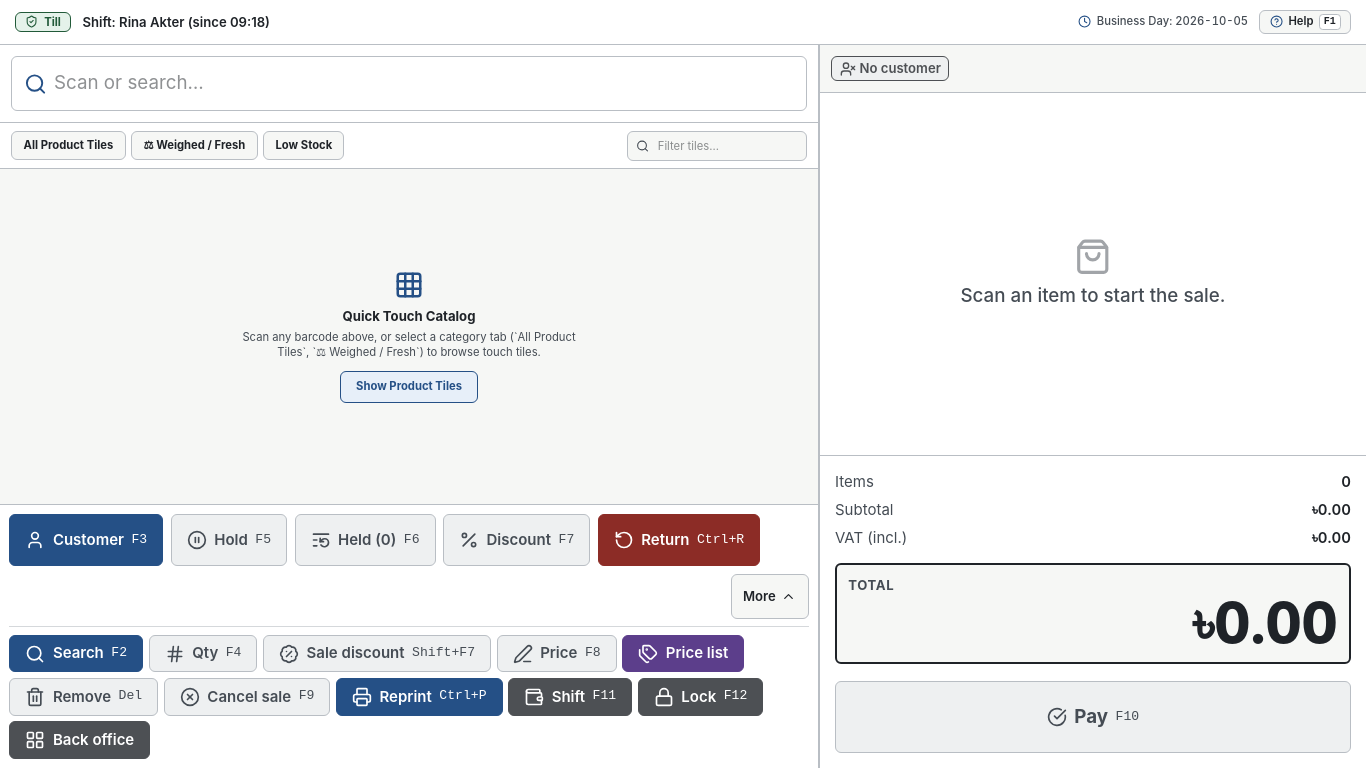
Test case: Returns, exchanges and voids (fake bridge) › ret_01: a cashier's return needs an admin, then goes through
Expected: the text "Scan an item to start the sale." is shown, [960,283,1226,310]
Type keys "{Control>}r{/Control}"
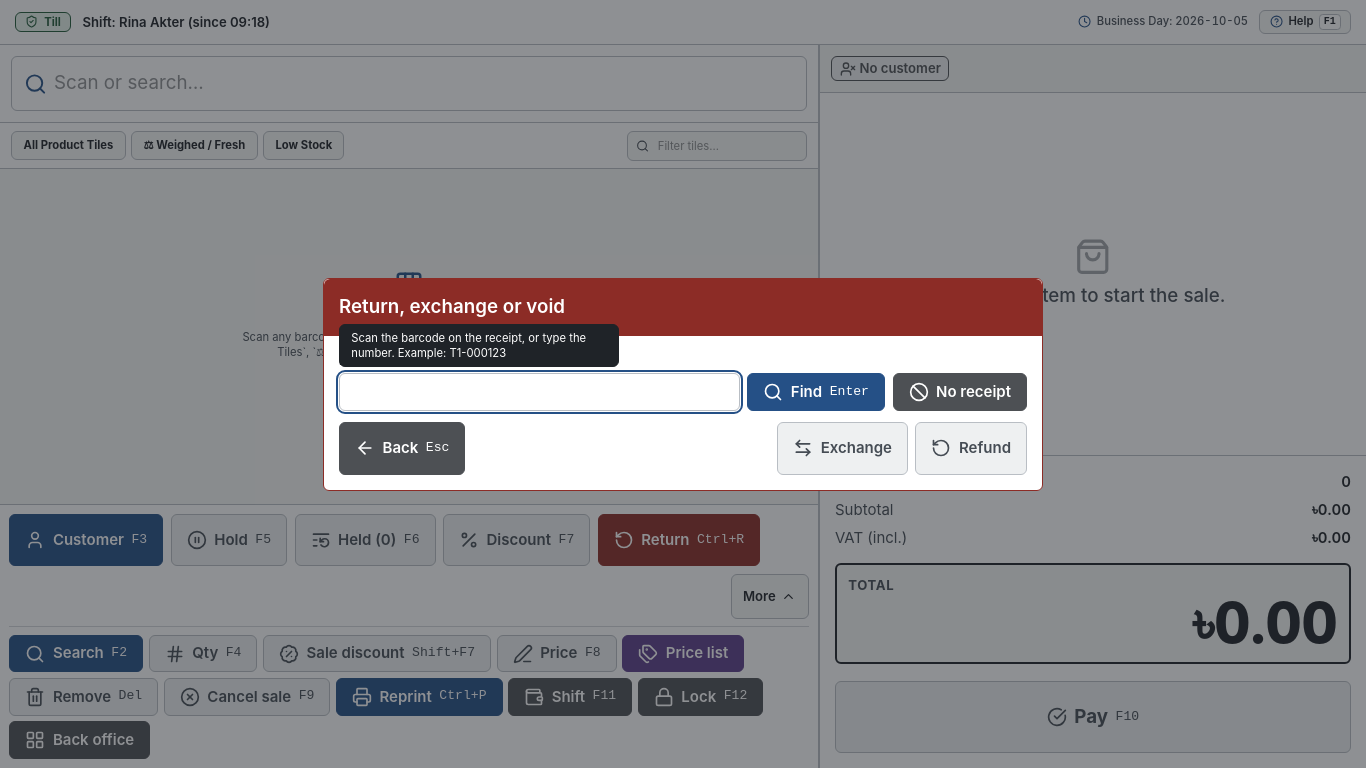
Type "T1-000001" into the field labelled "Invoice number" at (539, 392), box [339,373,740,411]
Then press Enter
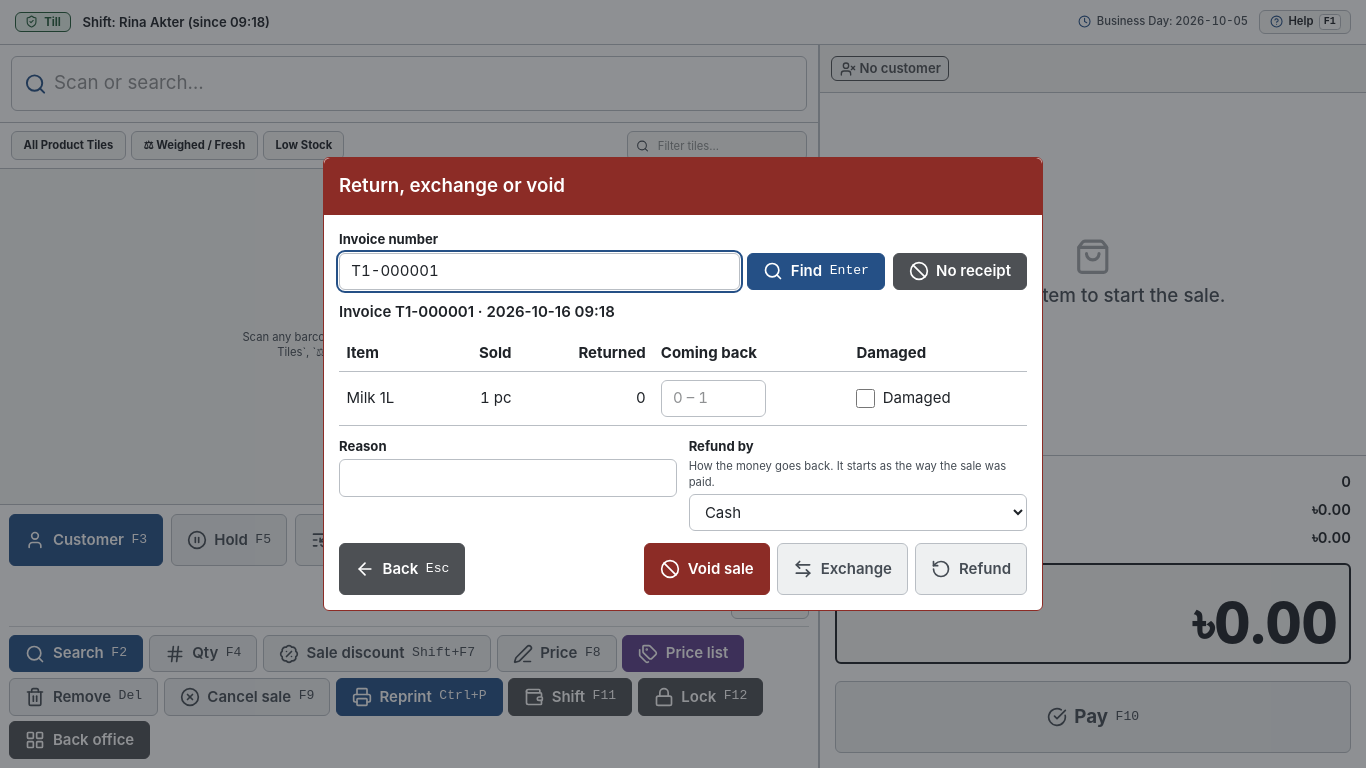
Expected: the text "Invoice T1-000001 · 2026-10-16 09:18" is shown, [339,302,615,321]
Type "1" into the field with placeholder "0 – 1" at (713, 398), box [661,380,766,417]
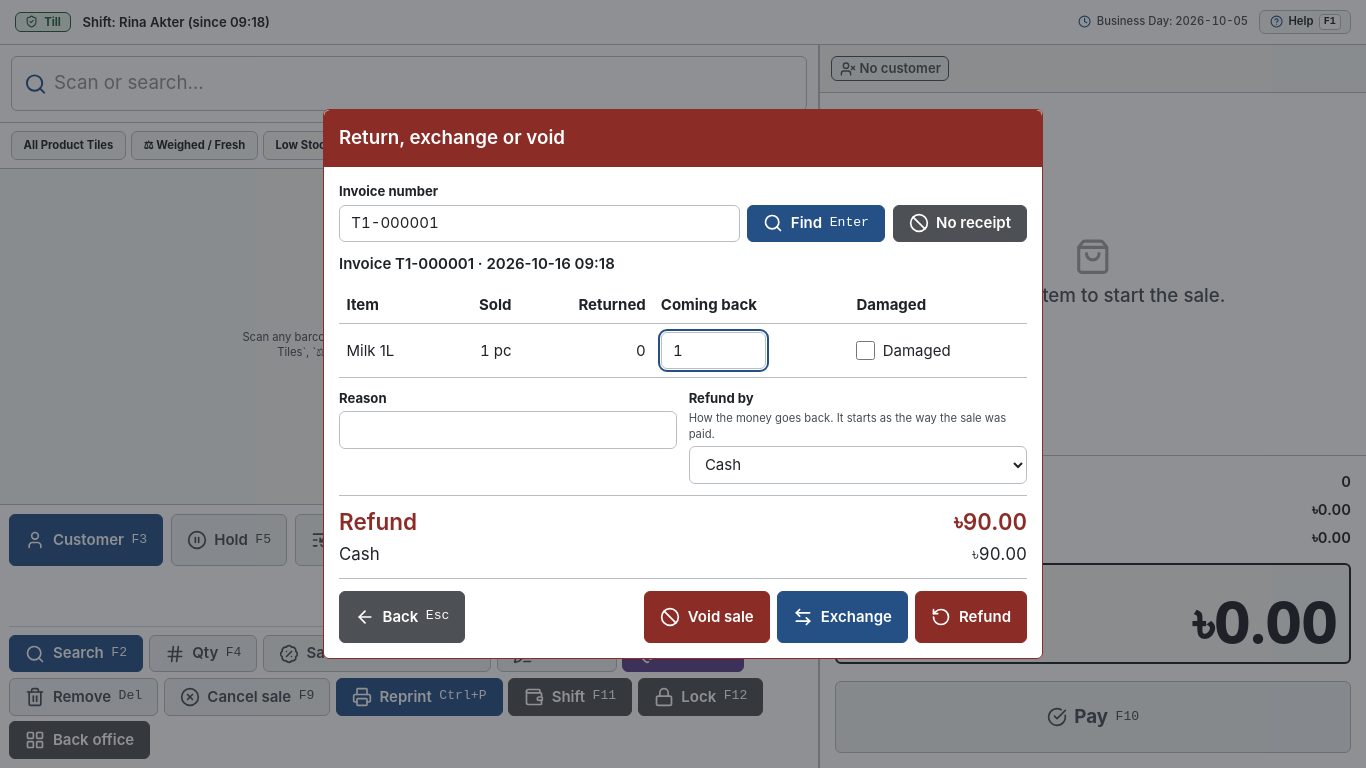
Type "Wrong size" into the field labelled "Reason" at (508, 430), box [339,411,677,449]
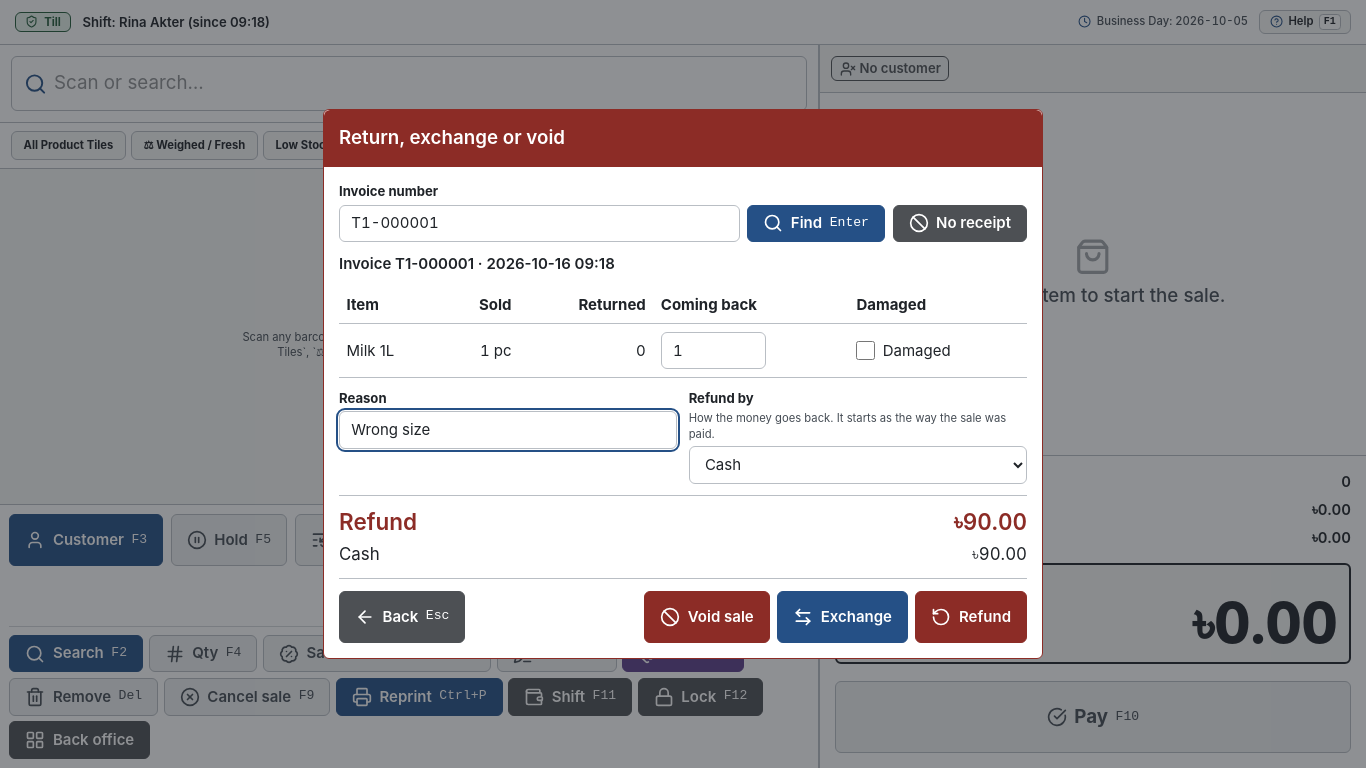
Click the button "Refund" at (971, 617), box [916,591,1027,643]
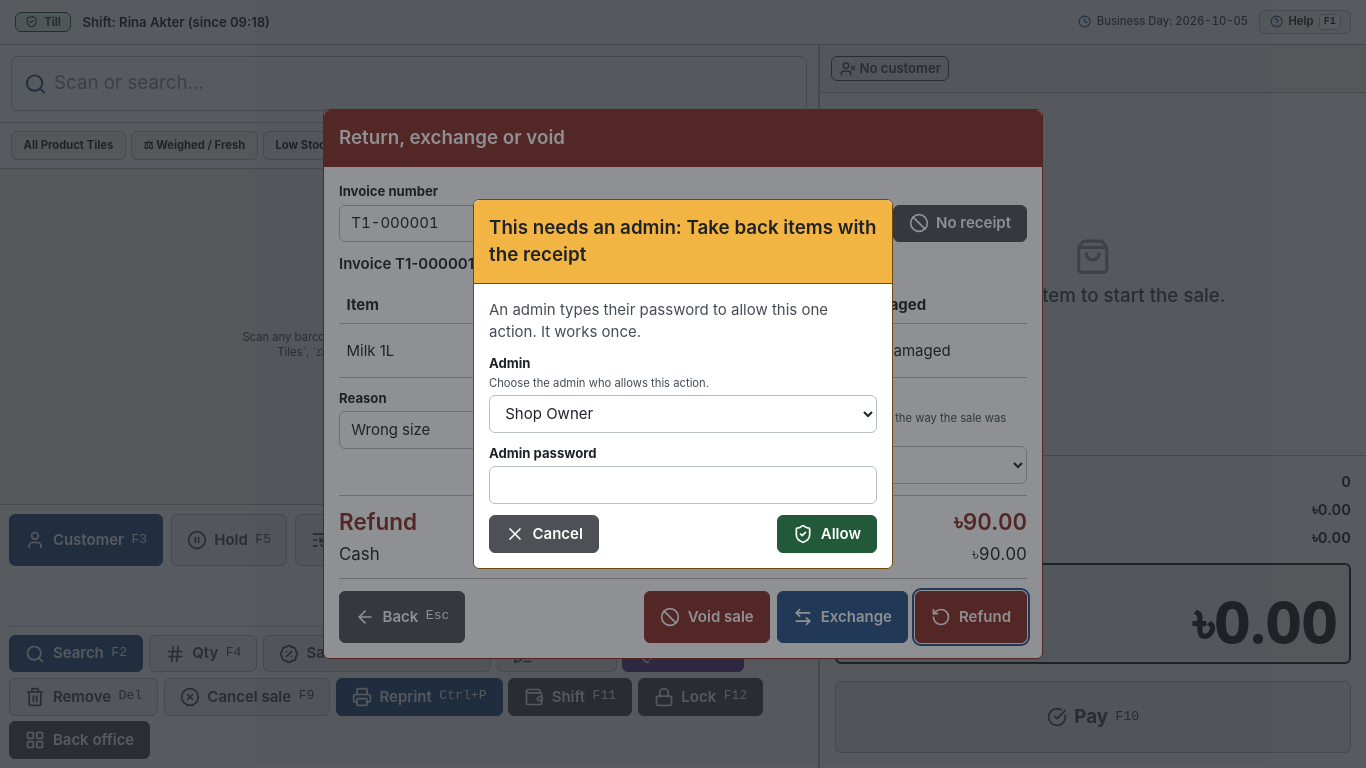
Type "shop-owner-1" into the password field labelled "Admin password" at (683, 485), box [489,466,877,504]
Then press Enter
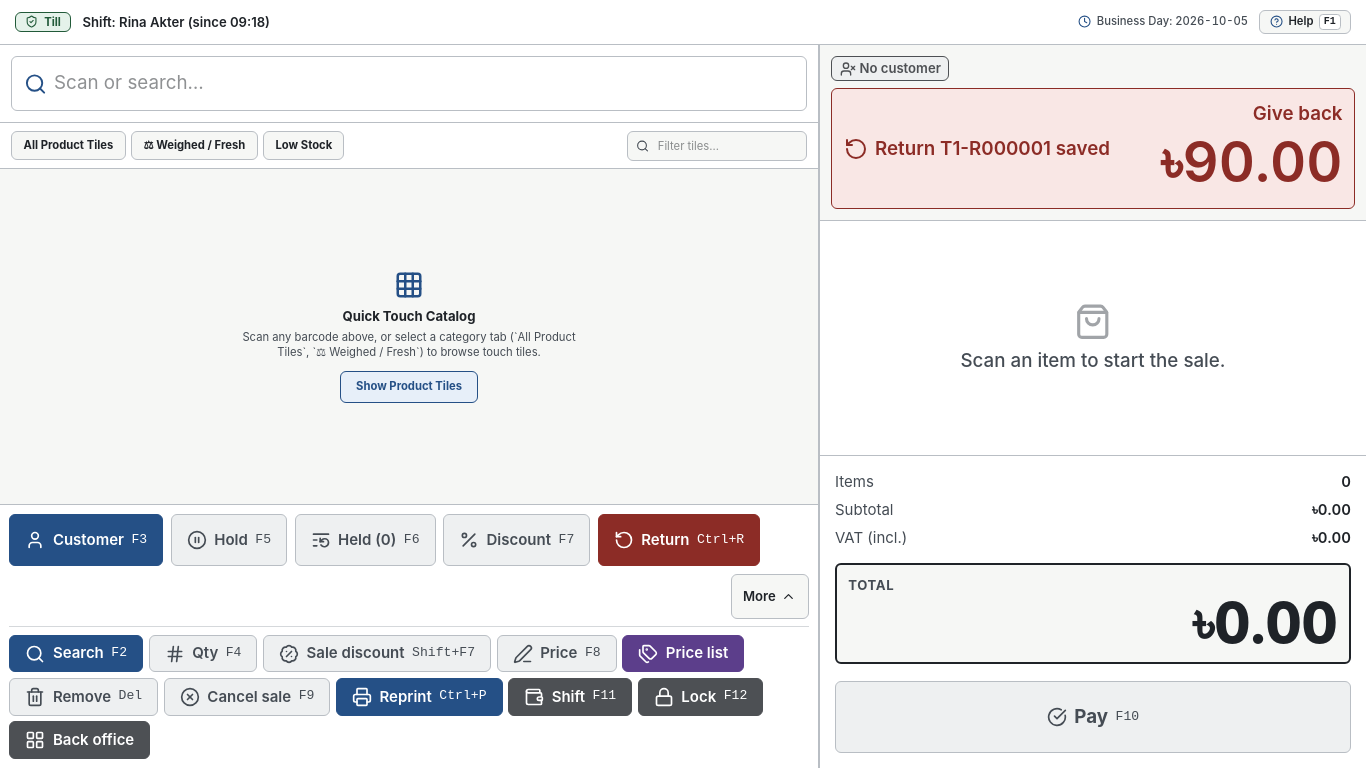
Expected: the text "Return T1-R000001 saved" is shown, [844,136,1110,162]
